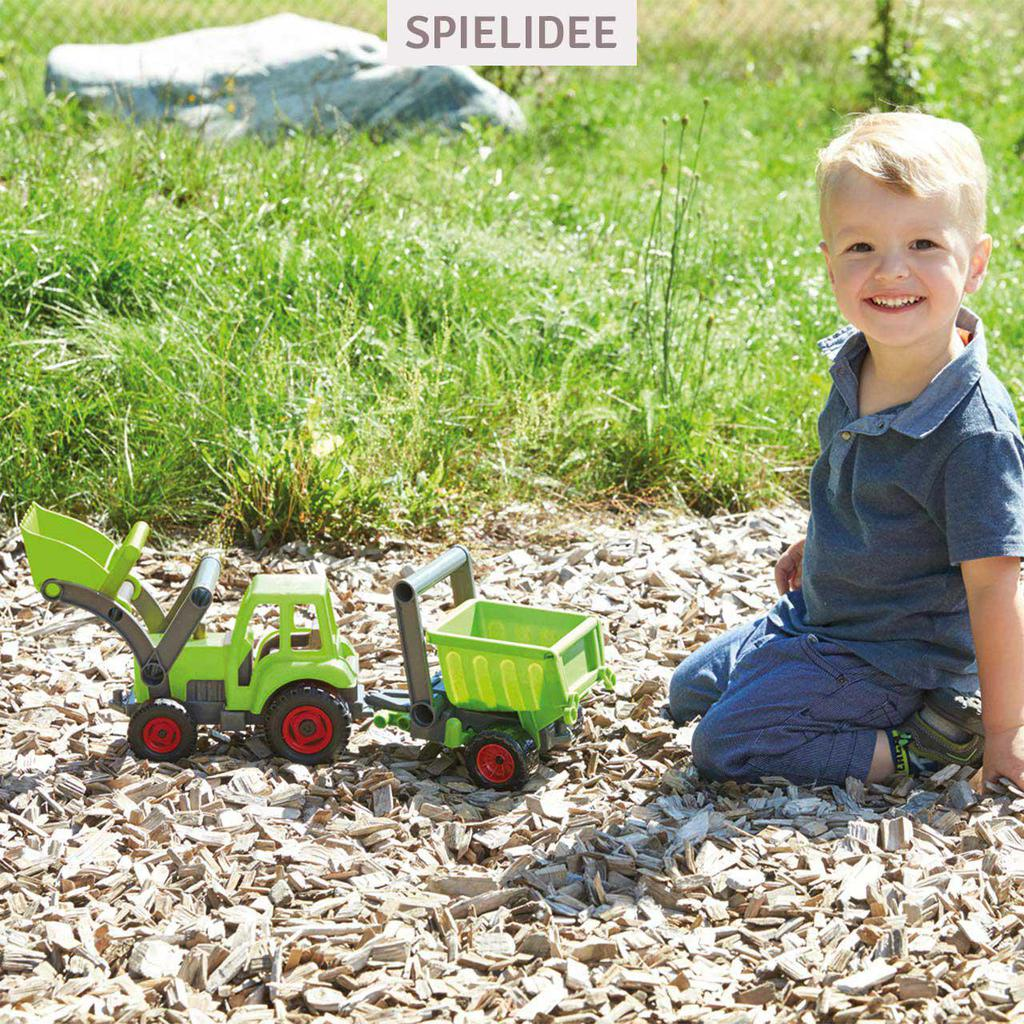child: (633, 102, 1024, 838)
